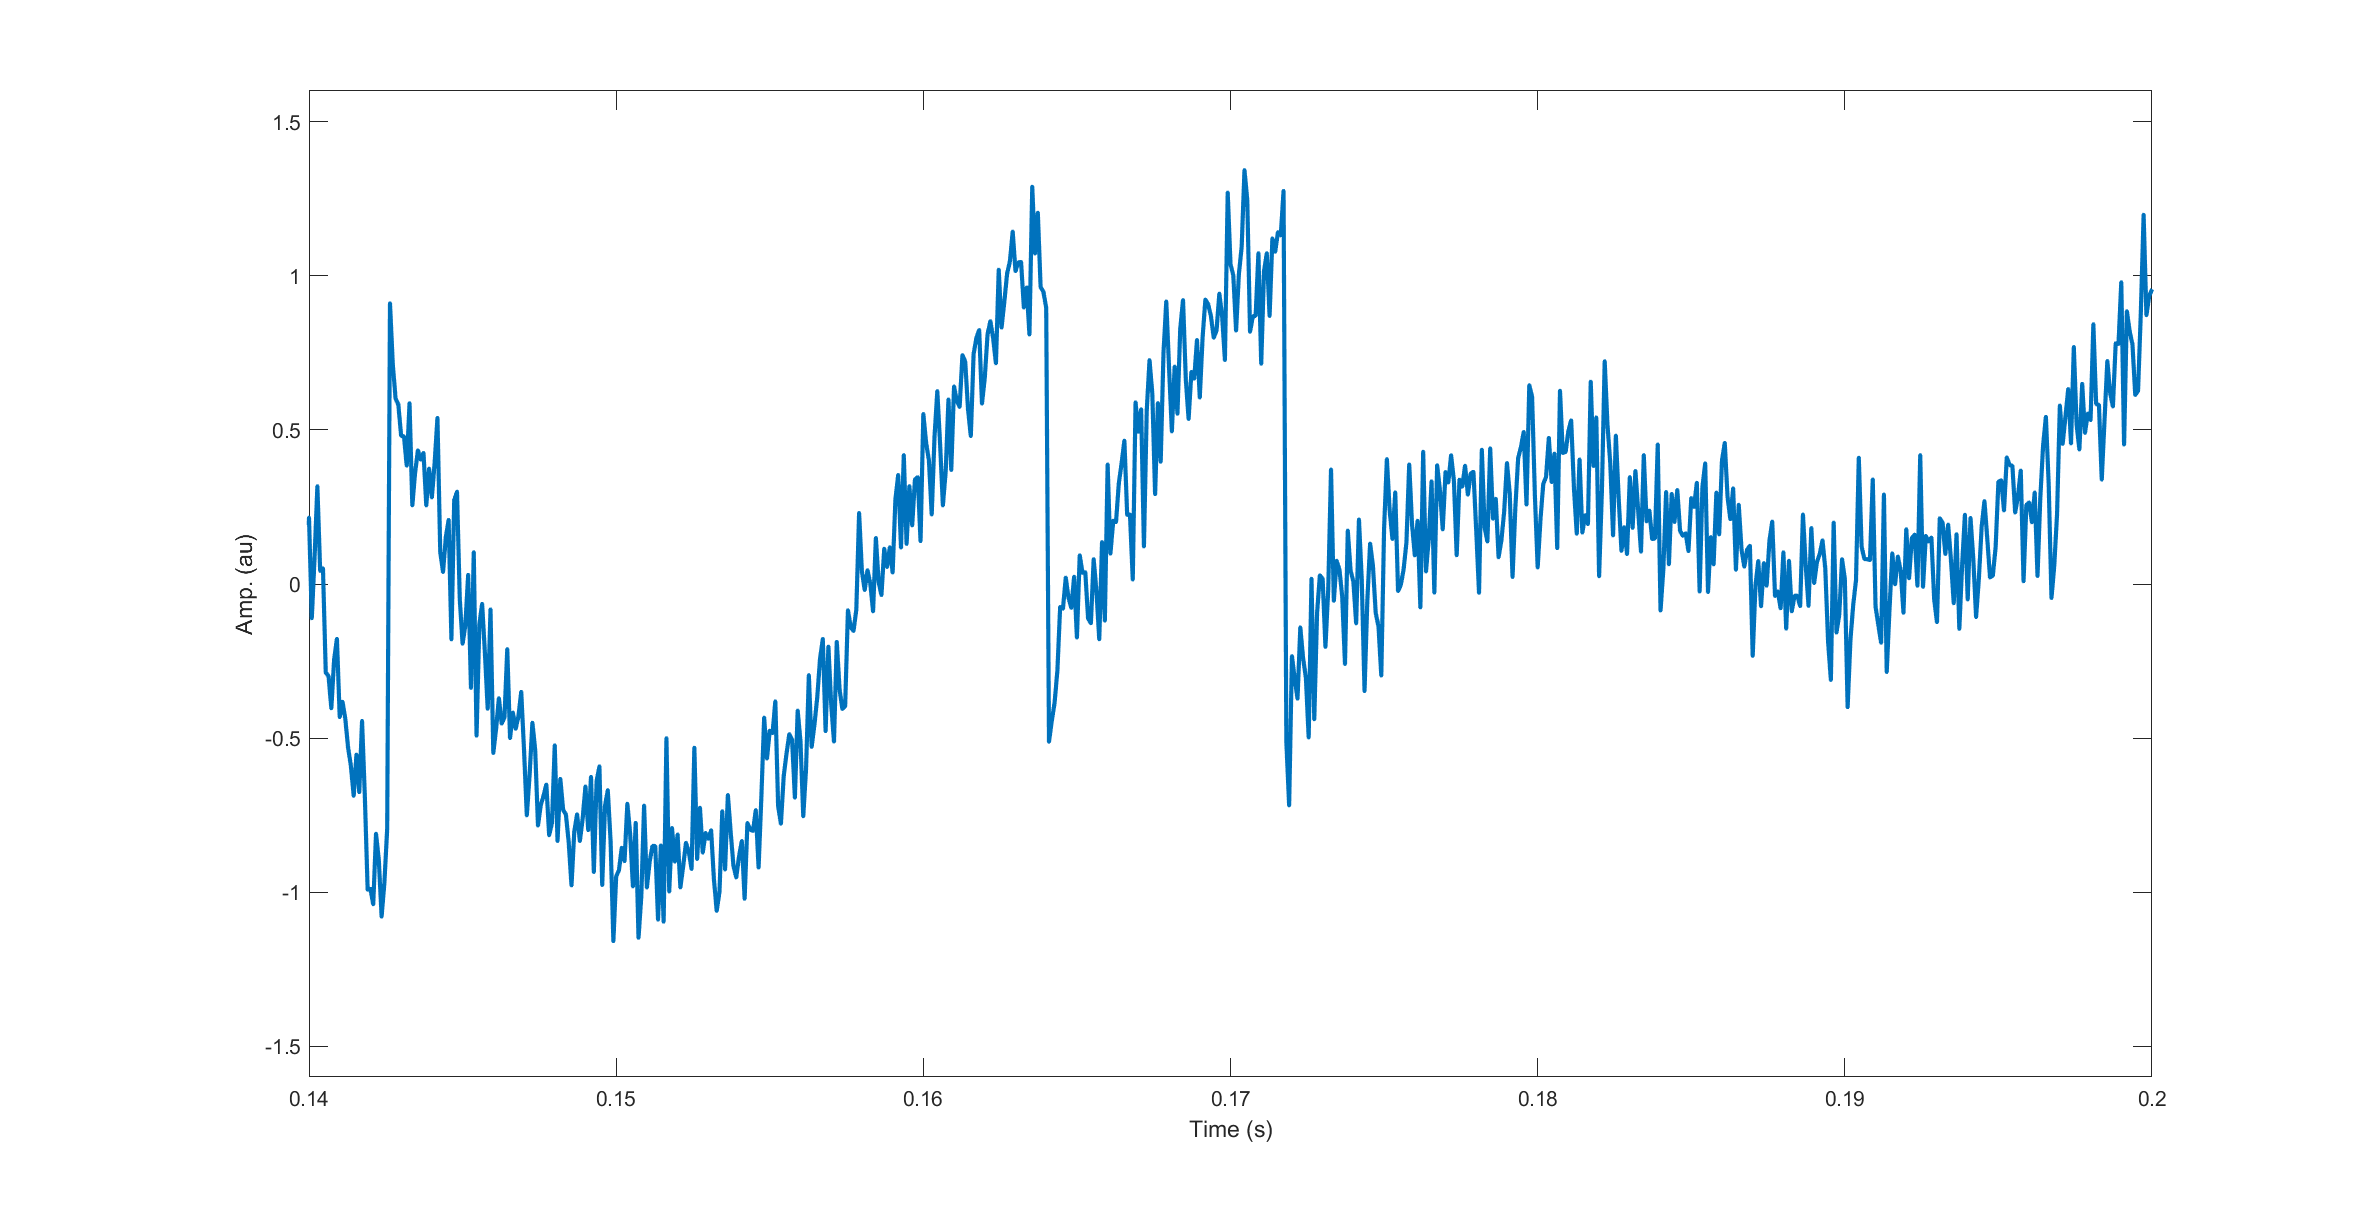negative_fringe: (377, 289, 526, 921)
positive_fringe: (1063, 157, 1304, 806), (860, 174, 1062, 708)
